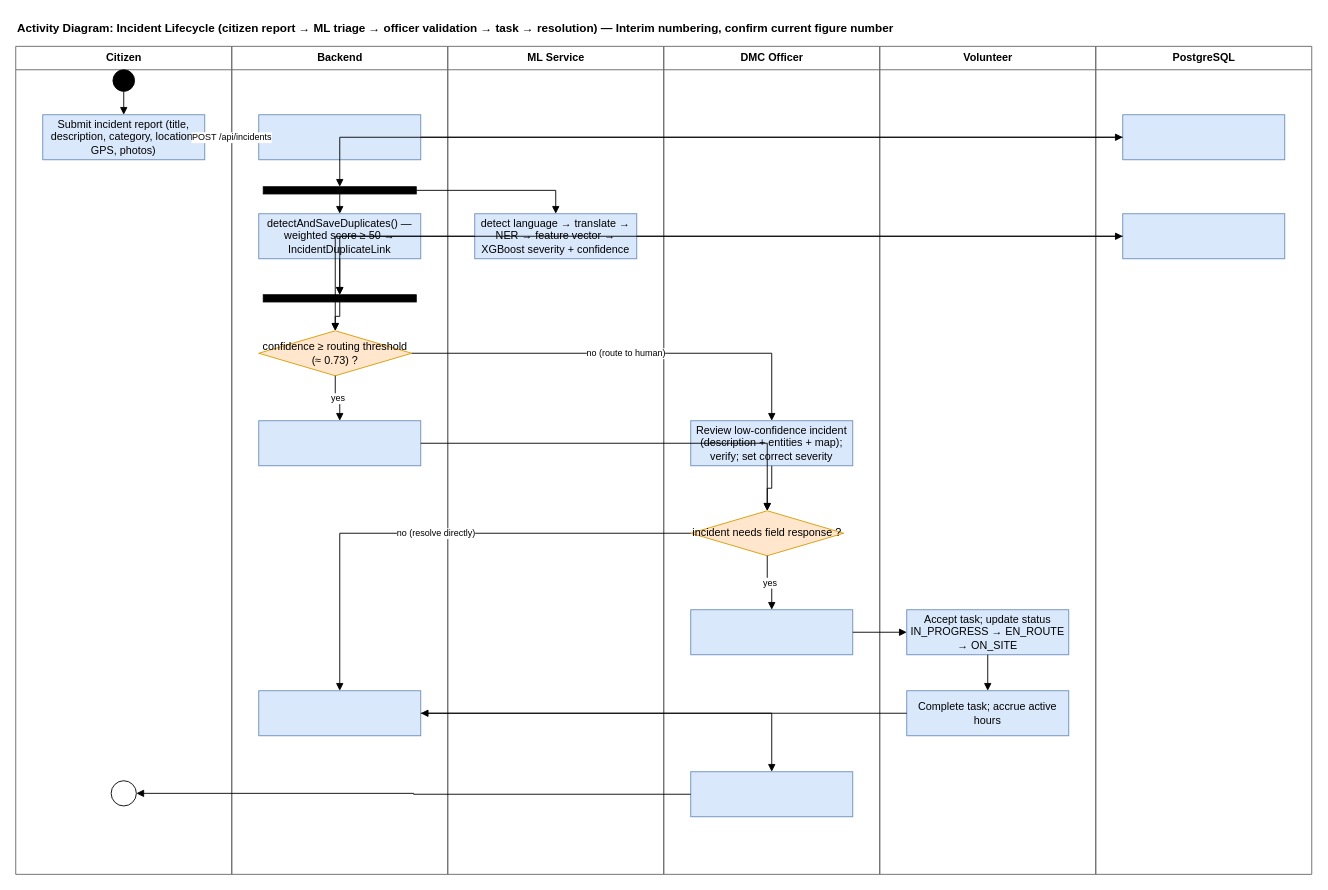
The diagram is 1328 pixels wide and 890 high, and some of its shapes have lost their labels. Here are the shapes that lost their labels. From the top down, the centre of each, then its label:
At (x=339, y=137): "requireFields; geocode if no GPS; findZoneForCoordinates (turf)".
At (x=1203, y=137): "INSERT IncidentReport (severity = MEDIUM, status = PENDING)".
At (x=1203, y=236): "UPDATE IncidentReport (severity, confidence, entities, language); INSERT MLLog".
At (x=339, y=443): "auto-accept — enters normal officer queue".
At (x=771, y=632): "Assign task from incident; update status PENDING → ASSIGNED".
At (x=339, y=713): "UPDATE status → RESOLVED; INSERT IncidentHistory; notify reporter".
At (x=771, y=794): "File After-Action Report (timeline, resources, cost, lessons)".
